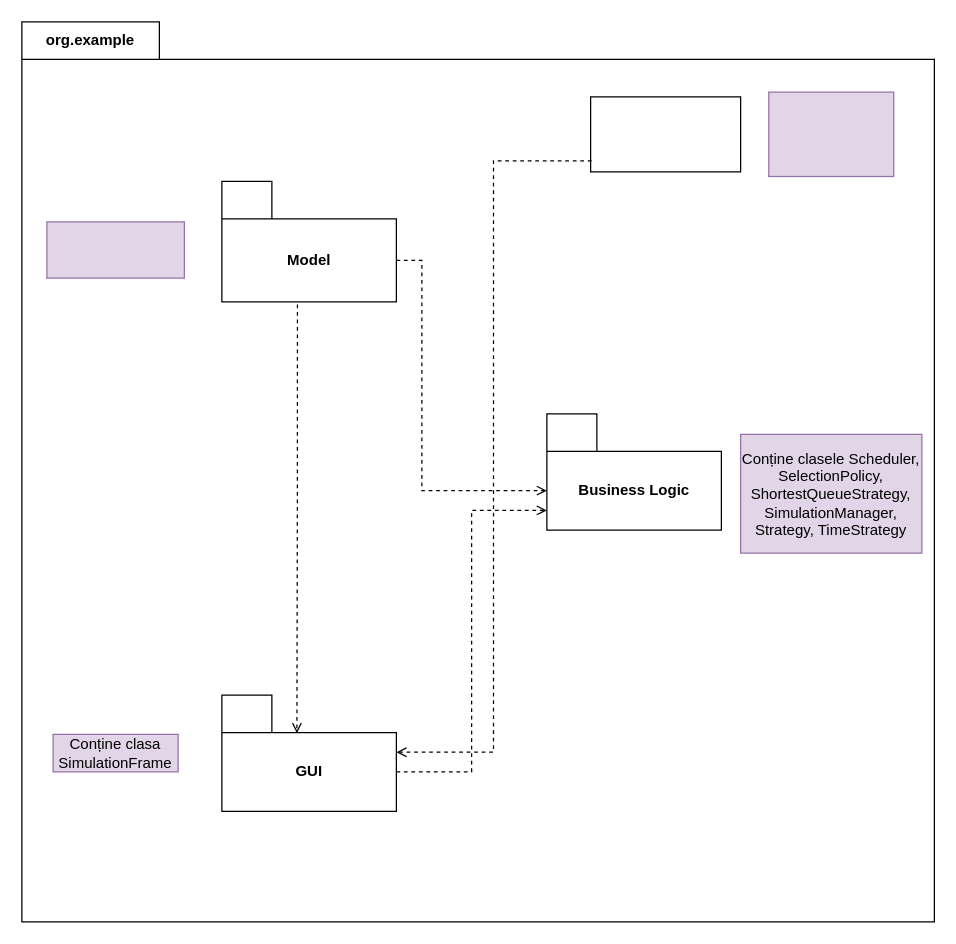
Some shapes in this 956 by 944 pixel diagram are drawn without their labels. Each missing label, with the box of its shape:
Conține clasele Server și Task: (46, 221, 184, 278)
Main Class: (589, 96, 741, 172)
Rulează programul: (768, 91, 894, 176)
